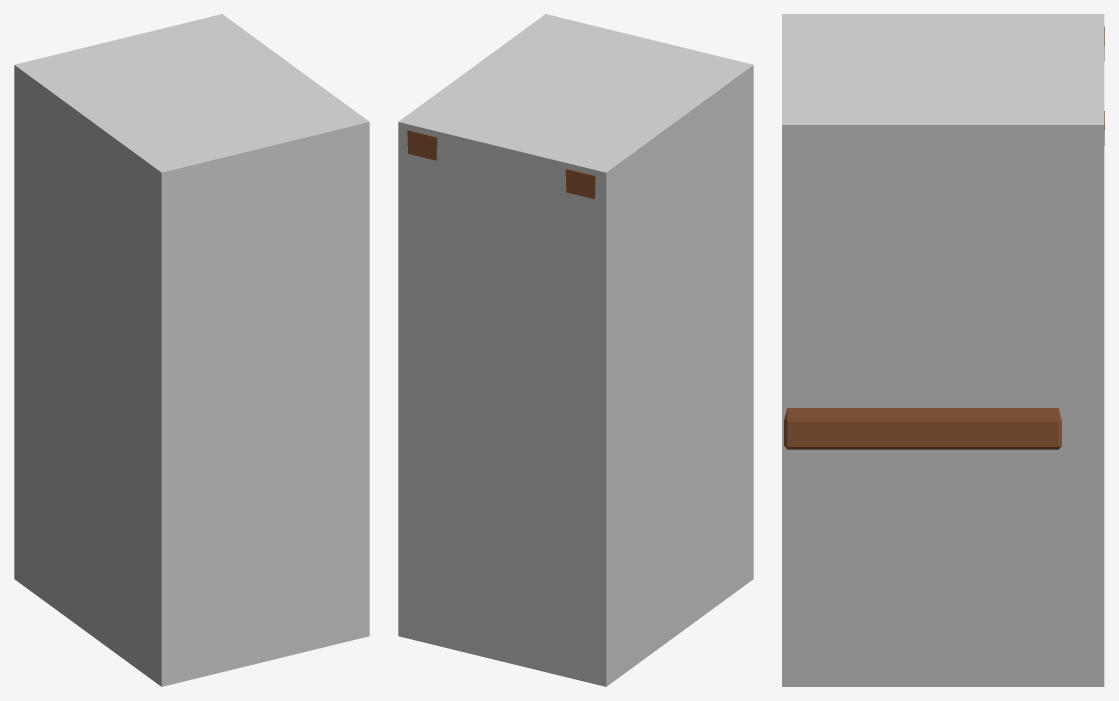
The model's file is chair-A-01.glb.
The picture shows the model from 3 angles, left to right: view 1: azimuth 30°, elevation 25°; view 2: azimuth 150°, elevation 25°; view 3: azimuth 270°, elevation 25°; orthographic projection. The views are drawn at different scales.
Visible parts, largest first — view 1: Chair A_col; view 2: Chair A_col, Chair A; view 3: Chair A_col, Chair A.
Boxes of the visible parts, box(x1,y1,x2,y2) form: Chair A_col: box(14, 14, 369, 686); Chair A_col: box(398, 14, 753, 686); Chair A: box(407, 130, 595, 199); Chair A_col: box(782, 14, 1104, 686); Chair A: box(784, 26, 1104, 449).
Bounding box in the file's own units: 2.08 × 4.87 × 2.53.
